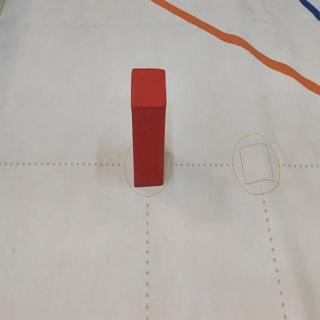redbox: (131, 66, 166, 189)
